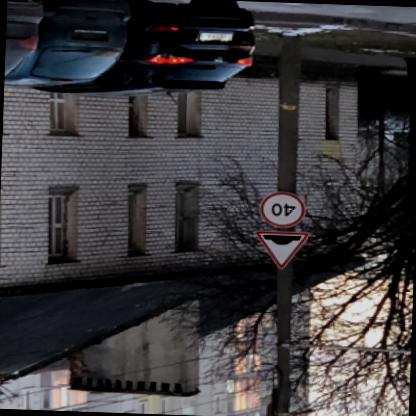speedlimit: (262, 194, 308, 229)
